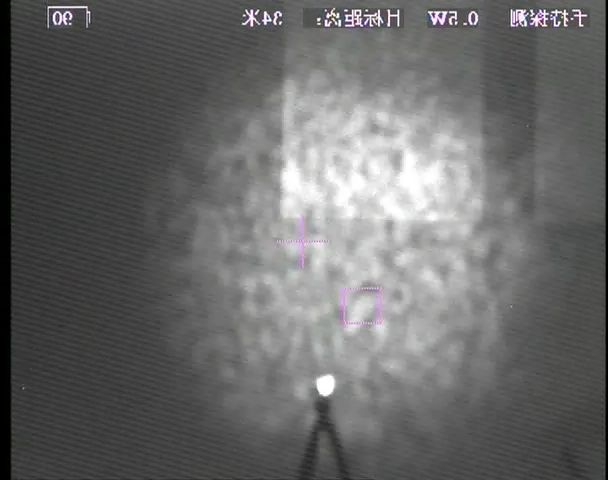my: (314, 370, 337, 399)
